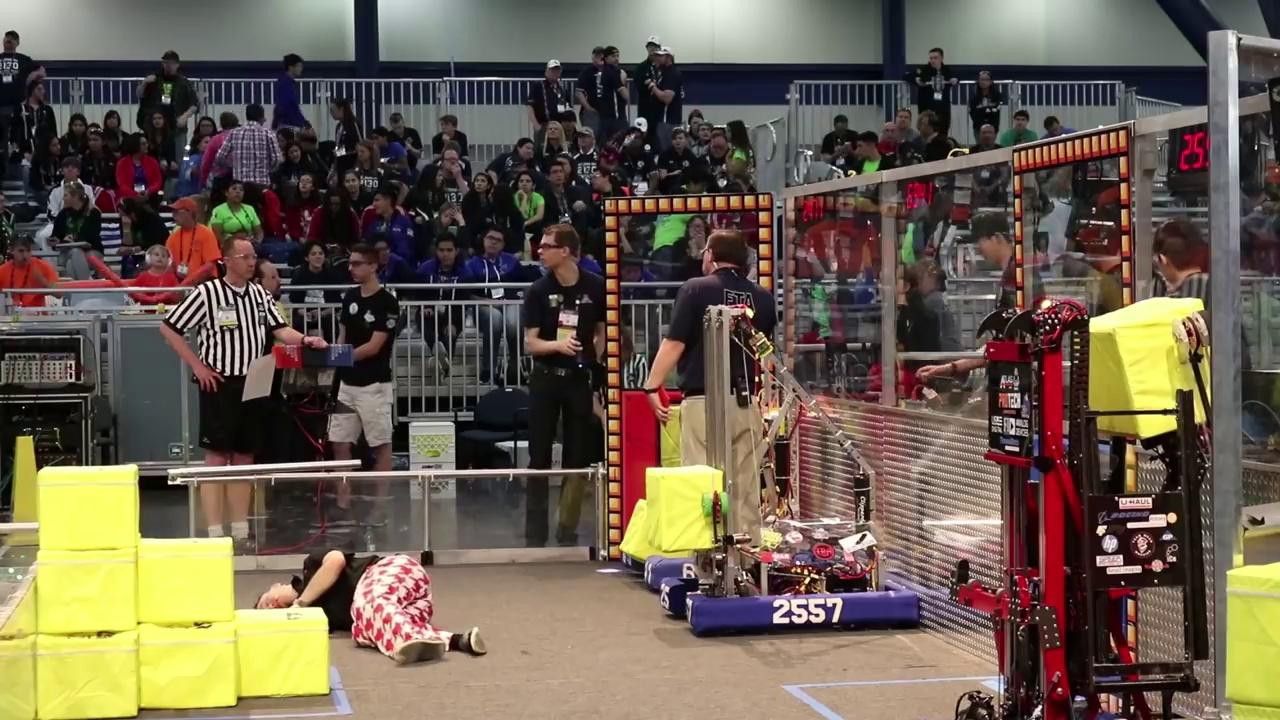robot: (658, 310, 929, 632)
